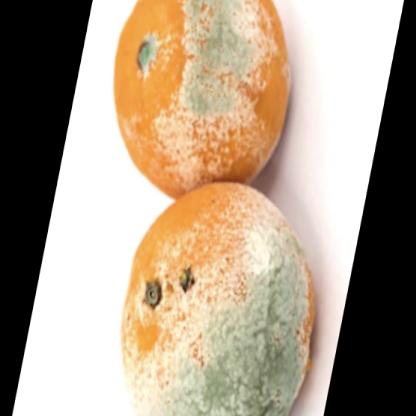rotten: (115, 1, 321, 416)
